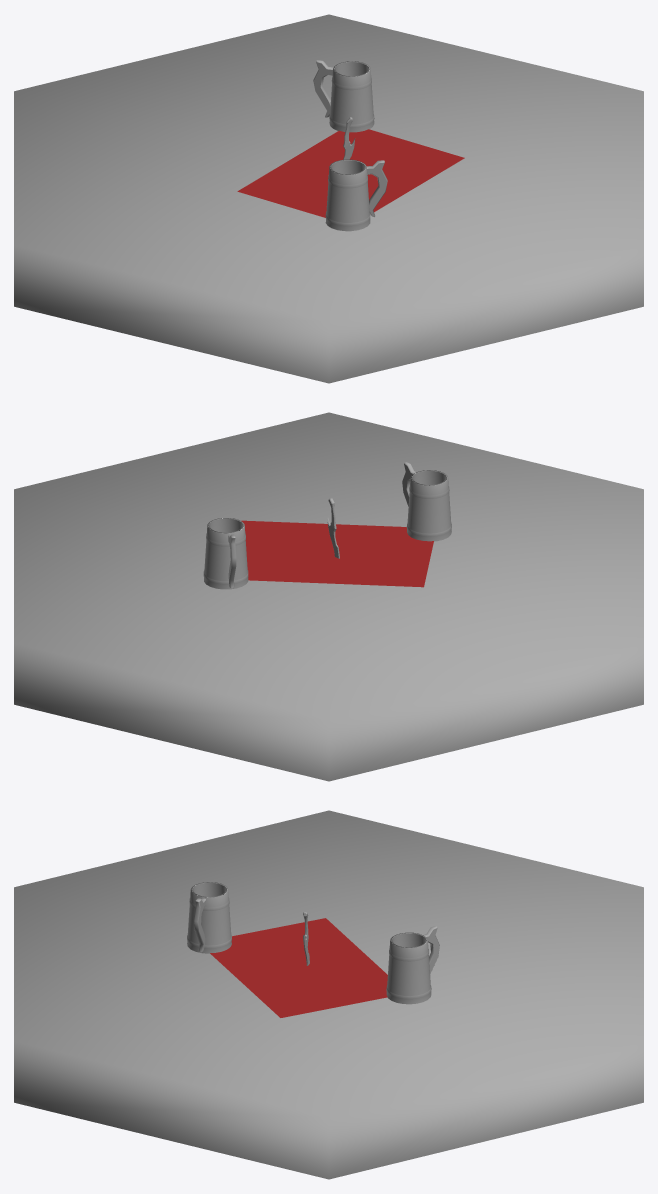
The model's file is table.fbx.
3 views of the same model, one above another, from view 1: azimuth 30°, elevation 25°; view 2: azimuth 150°, elevation 25°; view 3: azimuth 270°, elevation 25° (orthographic).
Parts seen in each view (by area): view 1: polySurface12; view 2: polySurface12; view 3: polySurface12.
Part boxes in pixels (x1,y1,x2,y2): polySurface12: (14, 14, 643, 383); polySurface12: (14, 412, 643, 781); polySurface12: (14, 810, 643, 1179).
Size of the model in its own units: 228 by 41.57 by 198.
